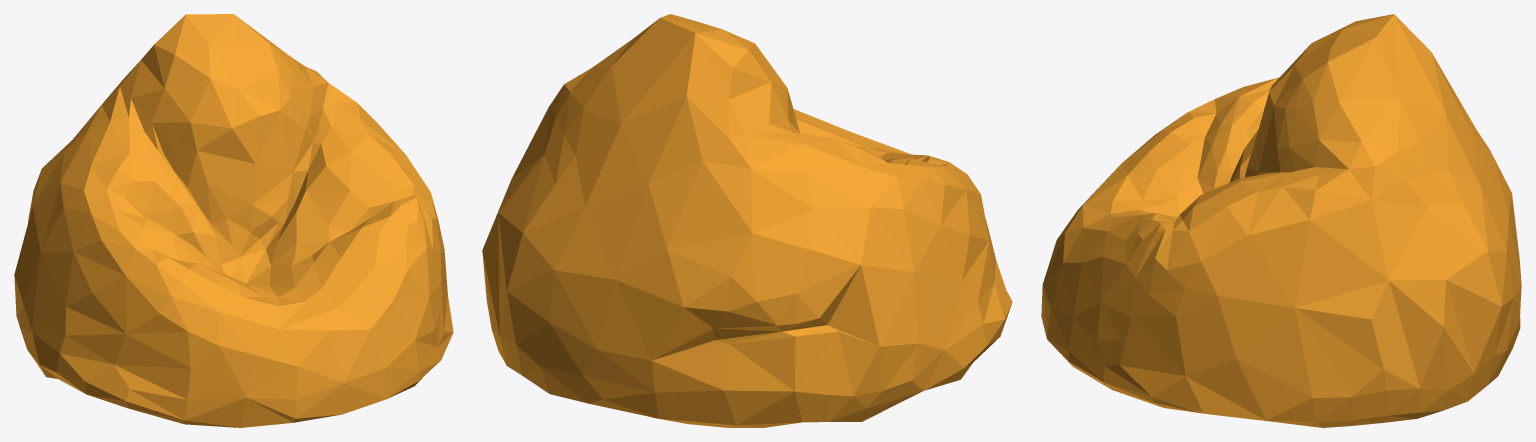
The model's file is Int_Pouf02_2.fbx.
3 views of the same model, side by side, from view 1: azimuth 30°, elevation 25°; view 2: azimuth 150°, elevation 25°; view 3: azimuth 270°, elevation 25° (orthographic). The views are drawn at different scales.
Visible parts, largest first — view 1: Int_Pouf02_2; view 2: Int_Pouf02_2; view 3: Int_Pouf02_2.
Boxes of the visible parts, <box> form: Int_Pouf02_2: <box>14,14,453,427</box>; Int_Pouf02_2: <box>482,14,1012,427</box>; Int_Pouf02_2: <box>1041,14,1521,427</box>.
Size of what is drawn, in the model's own units: 137 by 139 by 104.
